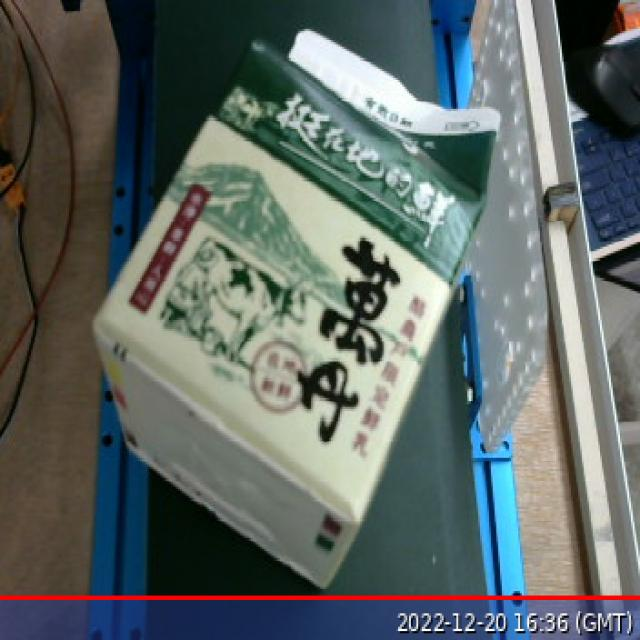non_white_jug: (37, 10, 512, 623)
